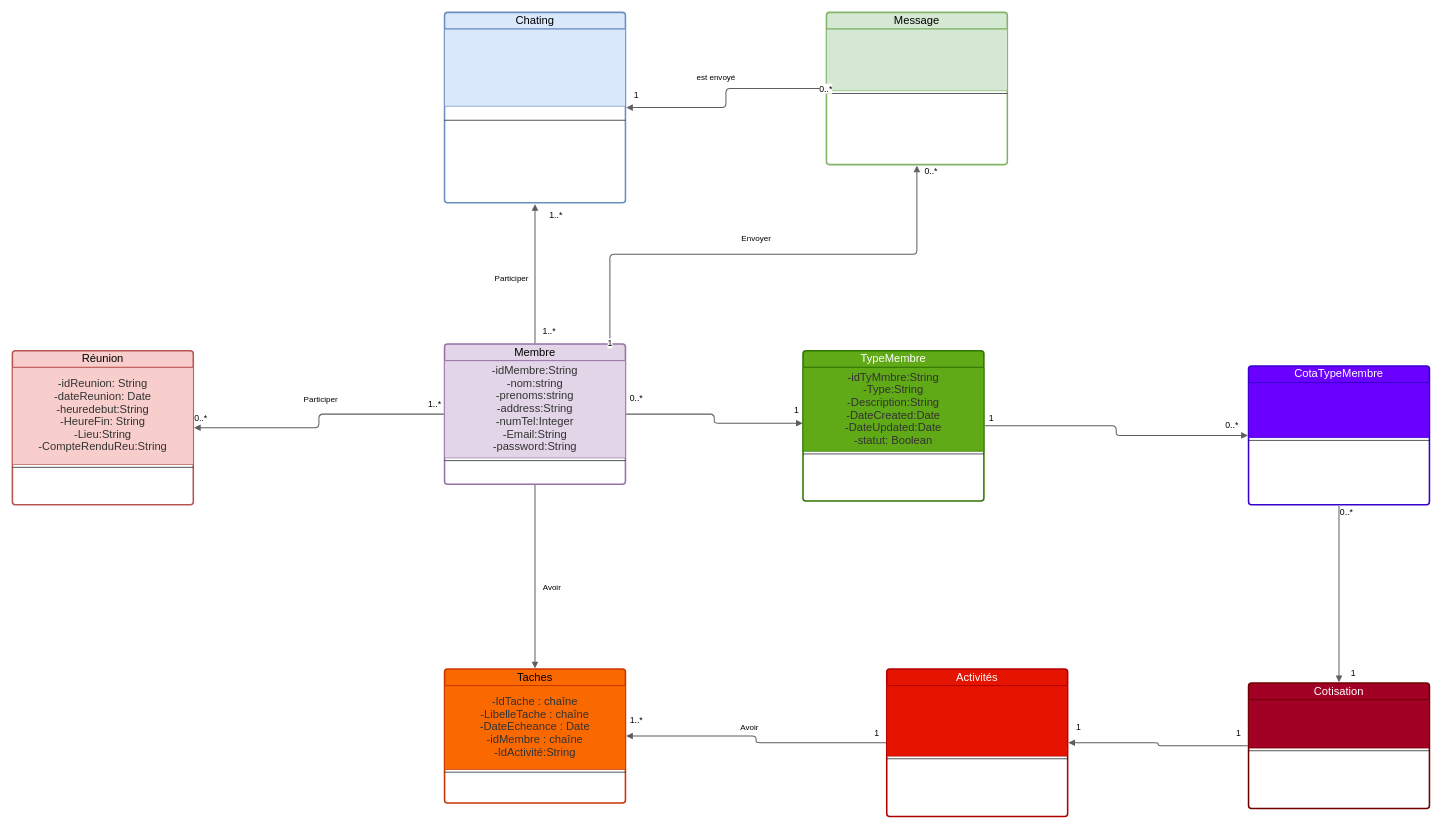
Image size: 1442x829. Some labels were removed from this diagram. The shapes that lost their labels are listed below. From the top down, each one's centre as x and y in pixels, then its label:
At (534,67): "-IdChat: String -TitreChat: String -image: image".
At (916,59): "-idMess:String -idMembre:String -idChat:String".
At (1338,410): "-IdCotaTypMmbre:String -DateRegis: Date -idTyMmbre:String -IdCota:String".
At (977,720): "-IdActivité:String -DareDebut:Date -DateFin:Date -Lieu: String -image:image".
At (1338,723): "-idCota:String -Type: String -Montant: Float".
